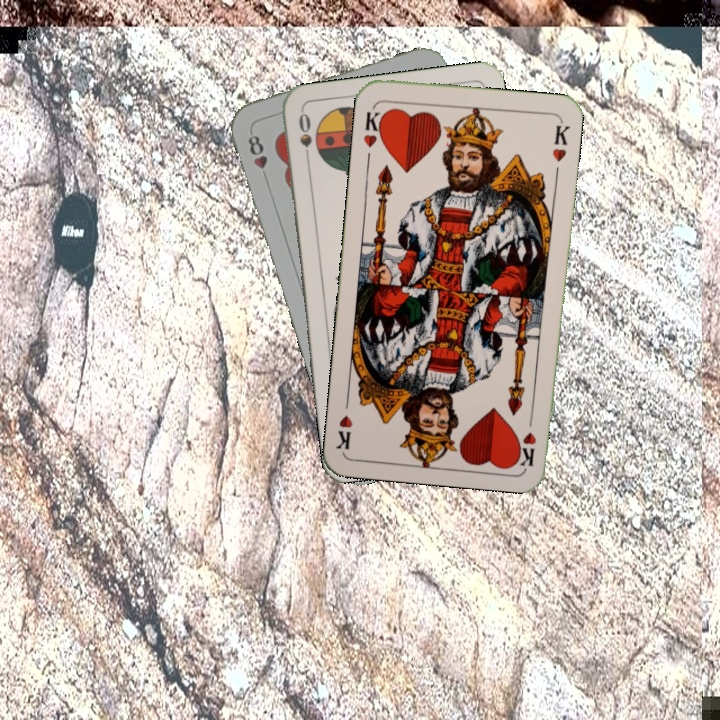H8: (244, 131, 272, 184)
HK: (359, 102, 388, 150), (516, 408, 539, 467)
SO: (295, 109, 315, 168)
